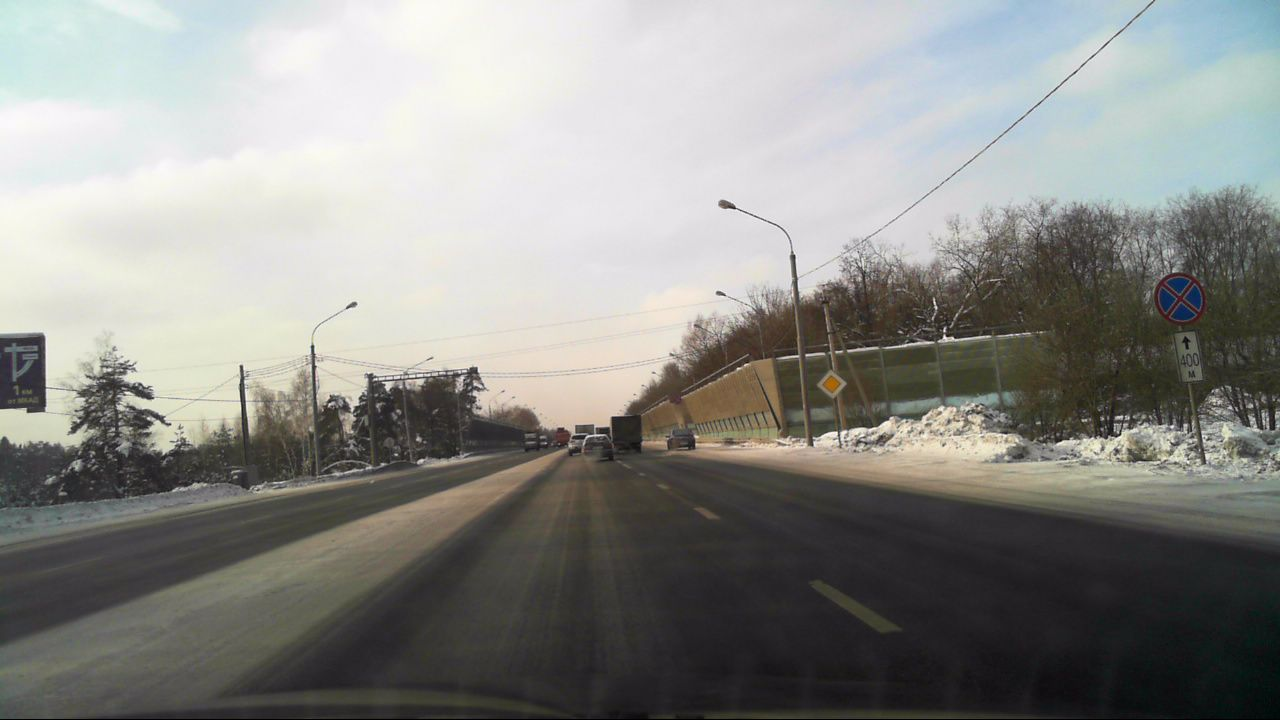No Parking: (1154, 272, 1202, 323)
